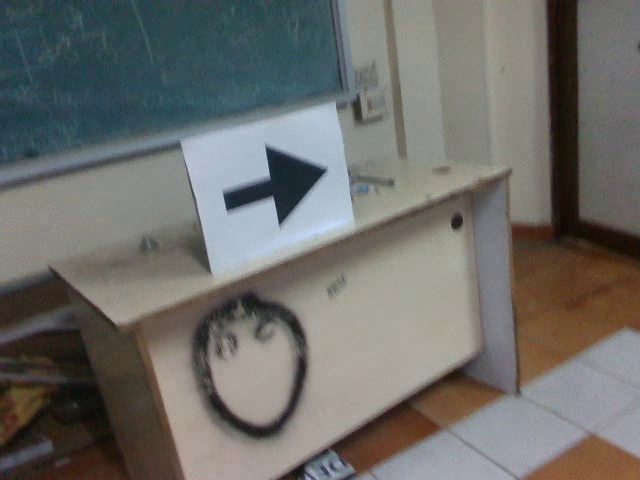Right: (215, 138, 333, 231)
